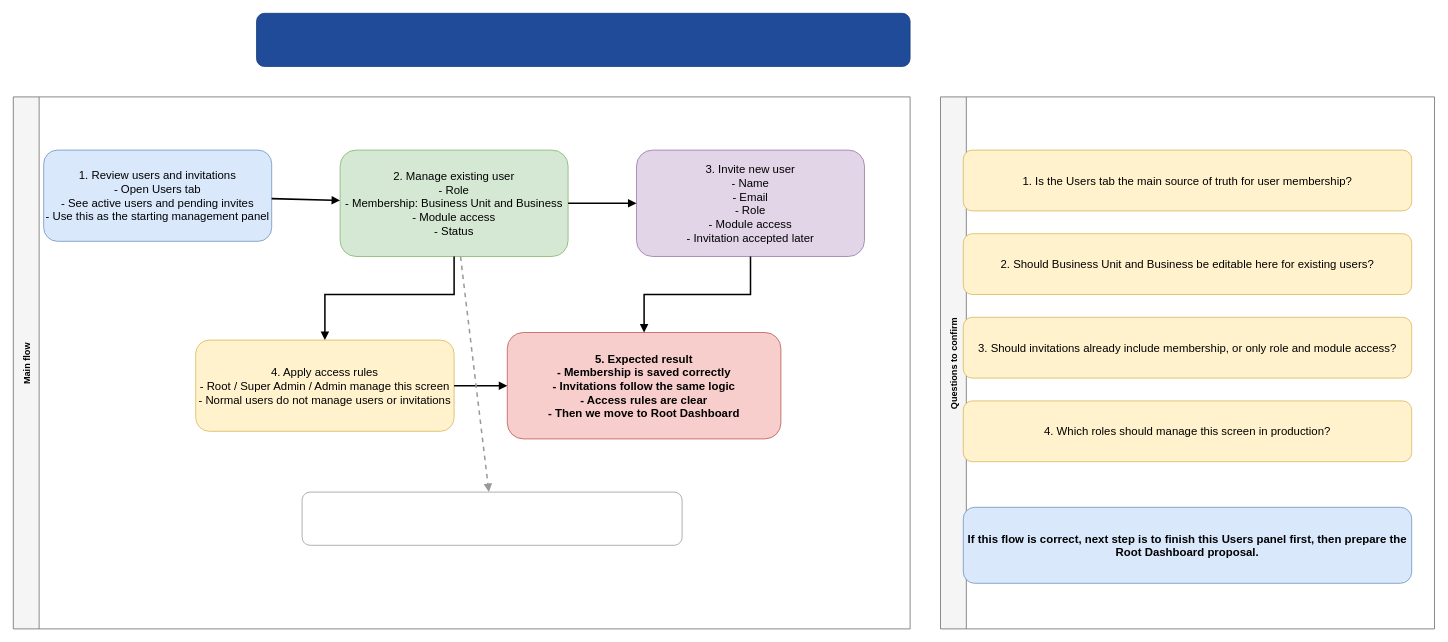
The diagram is 1448 pixels wide and 642 high, and some of its shapes have lost their labels. Each missing label, with the centre of its shape:
"Membership in this flow means: Business Unit + Business assignment for the user" goes at (x=491, y=518).
"Users Tab / Initial Panel High-level confirmation flow before Root Dashboard" goes at (x=583, y=39).
